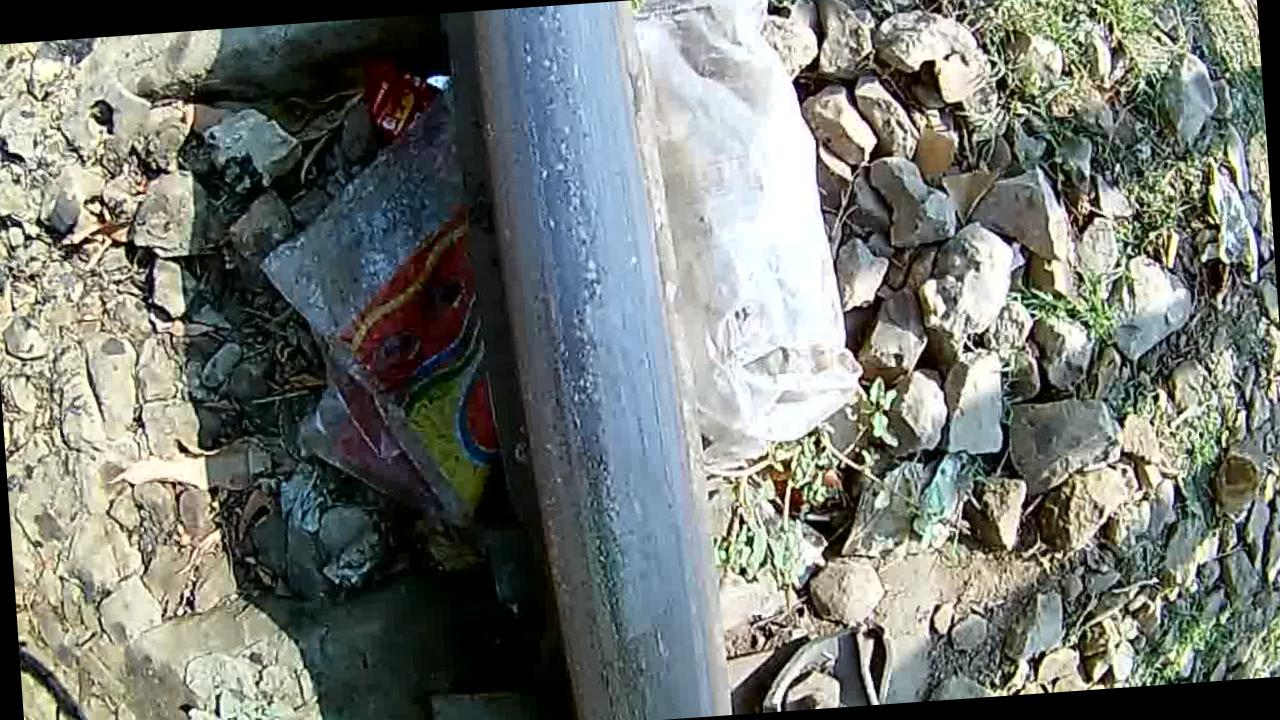clip_missing: (528, 3, 677, 720)
